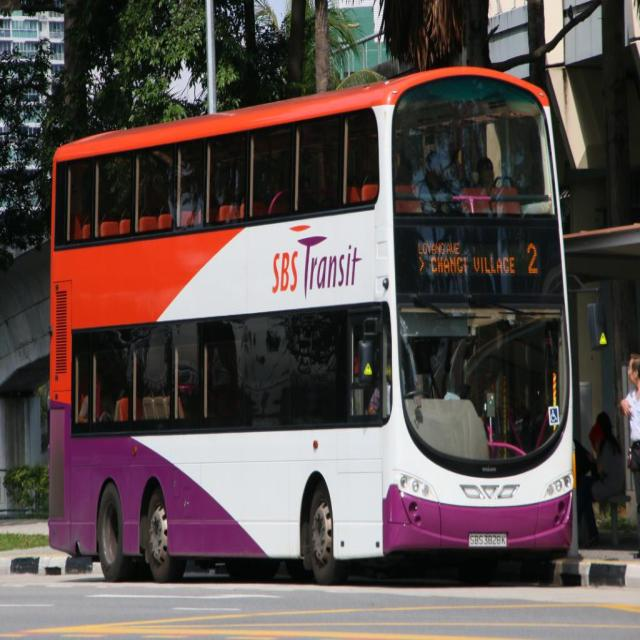Buses: (49, 67, 576, 586)
